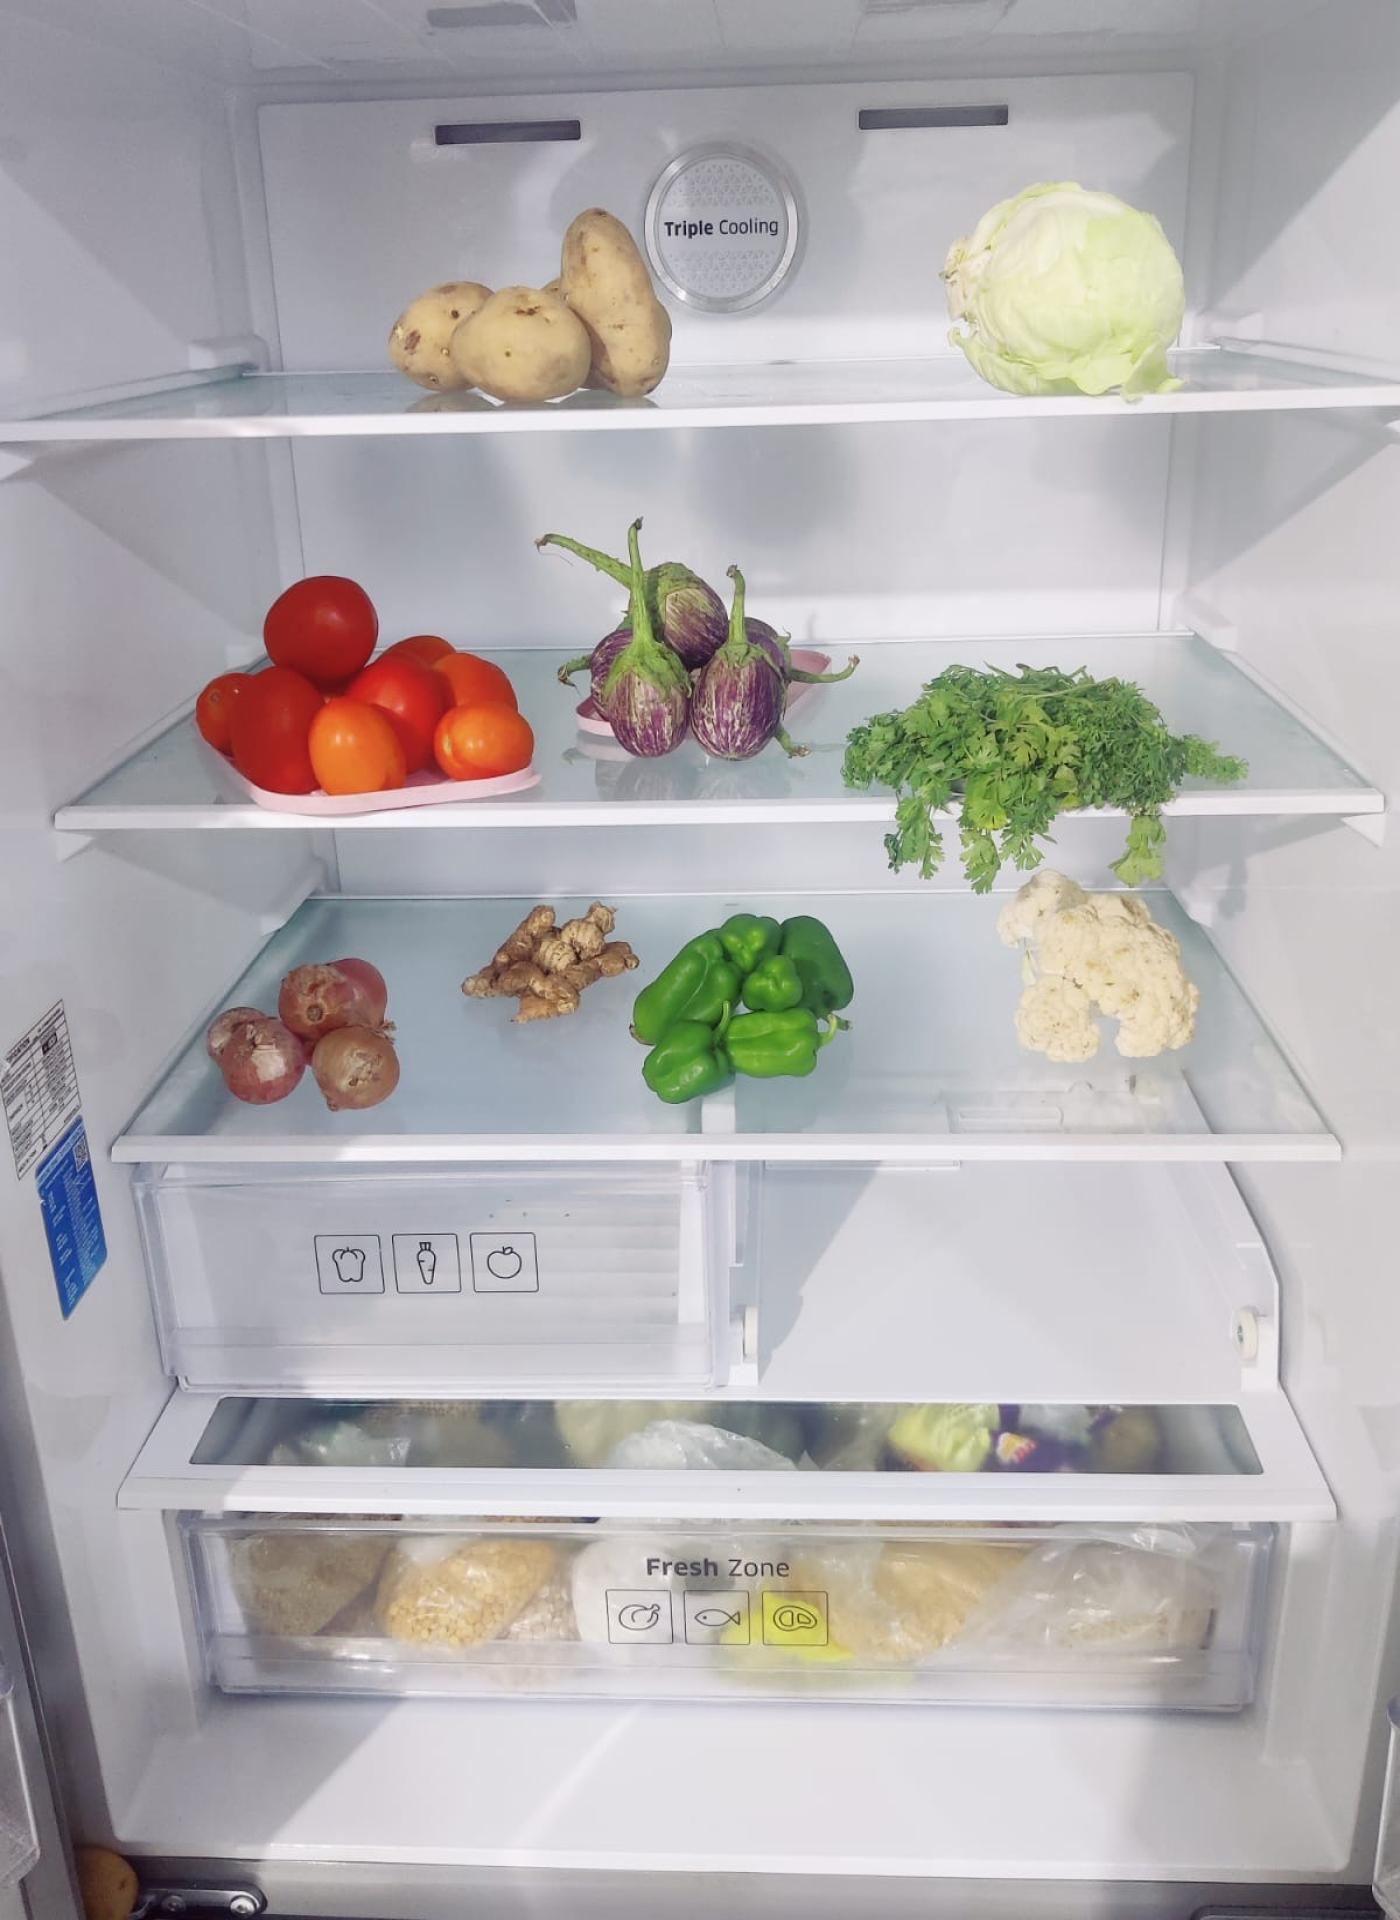brinjal: (595, 565, 802, 765)
cabbage: (945, 186, 1188, 400)
capsicum: (635, 917, 851, 1103)
cauliflower: (1008, 878, 1205, 1066)
coriander: (854, 668, 1240, 836)
ginger: (465, 894, 638, 1021)
onion: (210, 951, 394, 1108)
potato: (394, 216, 678, 407)
tomato: (200, 569, 531, 792)
